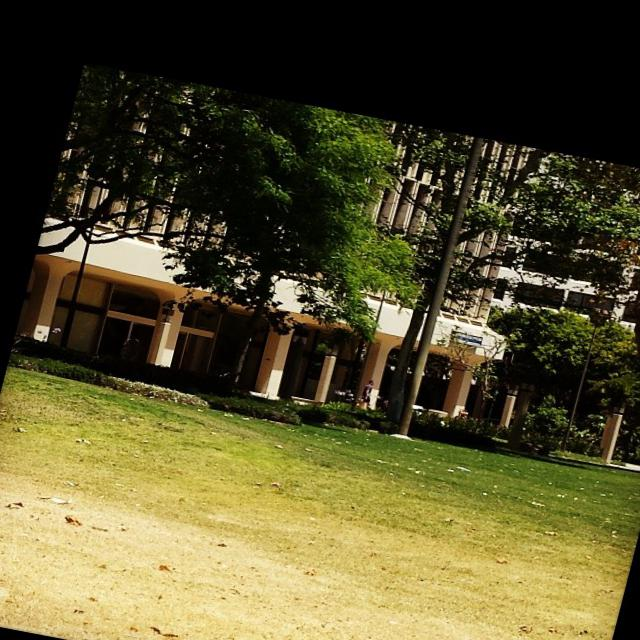patch: (37, 511, 308, 631), (302, 523, 509, 631), (512, 554, 605, 635)
